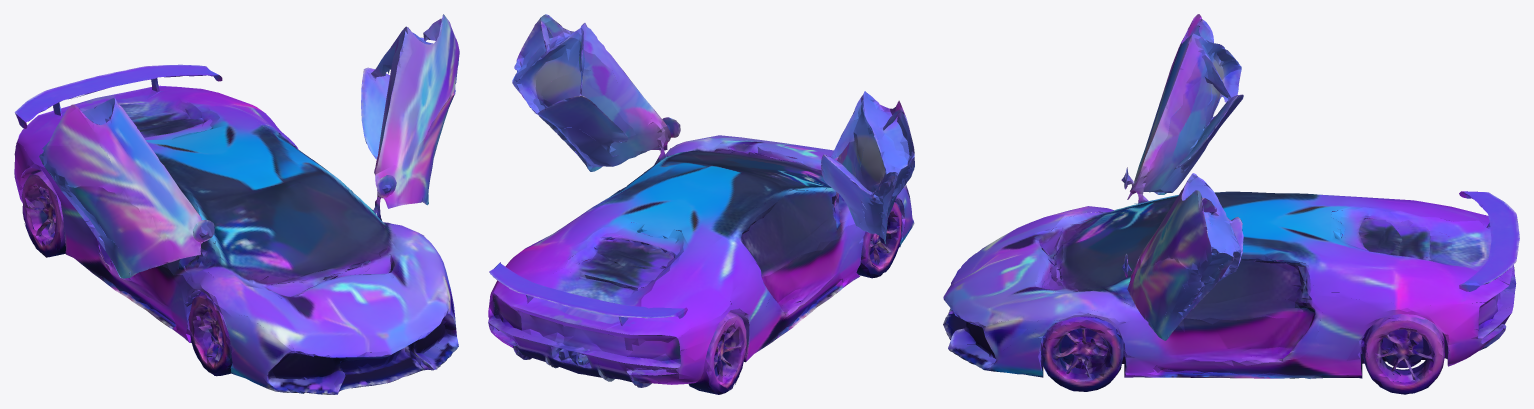
Rendered from exotichypercar1.glb.
3 renders of one model, left to right at view 1: azimuth 30°, elevation 25°; view 2: azimuth 150°, elevation 25°; view 3: azimuth 270°, elevation 25°, orthographic. The views are drawn at different scales.
Visible parts, largest first — view 1: body, wheel_front_L, wheel_rear_L; view 2: body, wheel_rear_L, wheel_front_L; view 3: body, wheel_front_R, wheel_rear_R.
Boxes of the visible parts, x1=… form: body: x1=14, y1=14, x2=459, y2=394; wheel_front_L: x1=111, y1=257, x2=244, y2=377; wheel_rear_L: x1=14, y1=157, x2=140, y2=301; body: x1=488, y1=14, x2=914, y2=394; wheel_rear_L: x1=679, y1=282, x2=807, y2=394; wheel_front_L: x1=807, y1=196, x2=905, y2=315; body: x1=943, y1=14, x2=1519, y2=394; wheel_front_R: x1=984, y1=304, x2=1254, y2=391; wheel_rear_R: x1=1229, y1=308, x2=1478, y2=394.
Size of the model in its own units: 3.26 by 1.84 by 4.
1 material, 1 textured.
